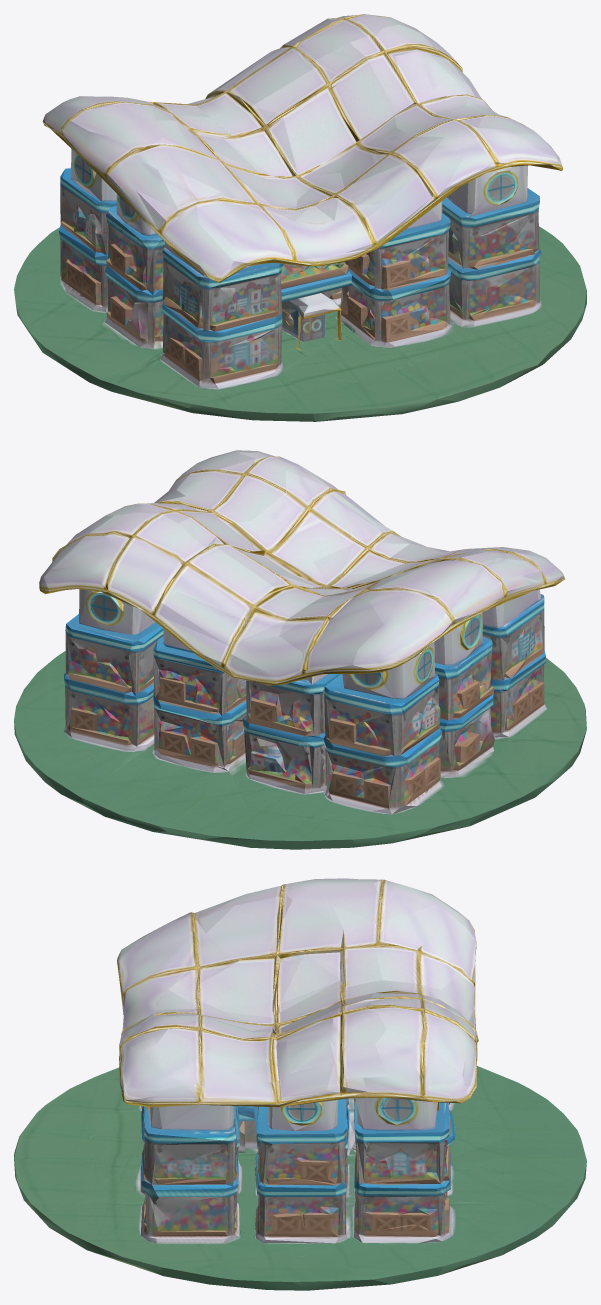
The model's file is market.glb.
3 views of the same model, one above another, from view 1: azimuth 30°, elevation 25°; view 2: azimuth 150°, elevation 25°; view 3: azimuth 270°, elevation 25° (orthographic).
Parts seen in each view (by area): view 1: Mesh_0; view 2: Mesh_0; view 3: Mesh_0.
Part boxes in pixels (x1,y1,x2,y2): Mesh_0: (14, 14, 586, 421); Mesh_0: (14, 450, 586, 849); Mesh_0: (14, 878, 586, 1290).
Bounding box in the file's own units: 1.9 × 0.7915 × 1.9.
Materials: 1 (1 with a texture image).
